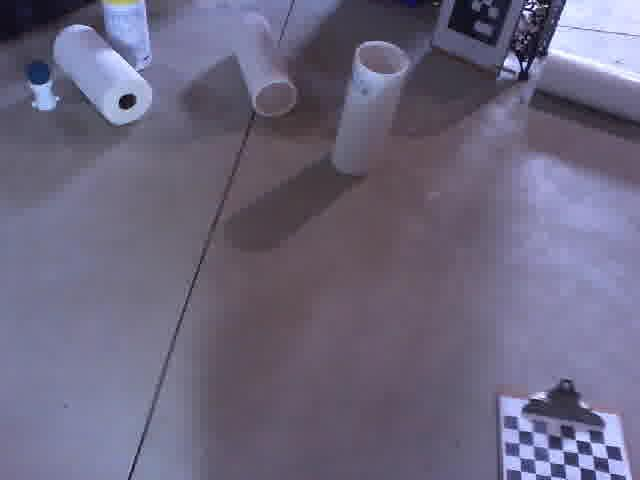coral: (331, 30, 411, 177), (223, 2, 304, 119), (532, 48, 640, 127)
